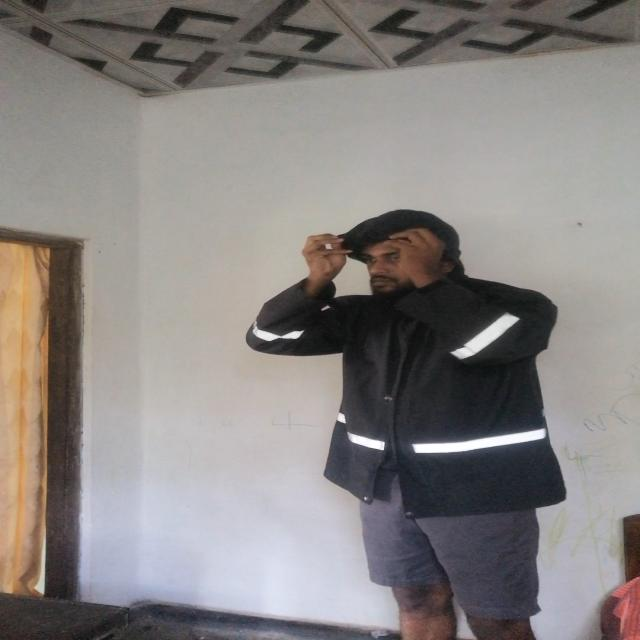Jacket_Wearer: (265, 192, 618, 502)
